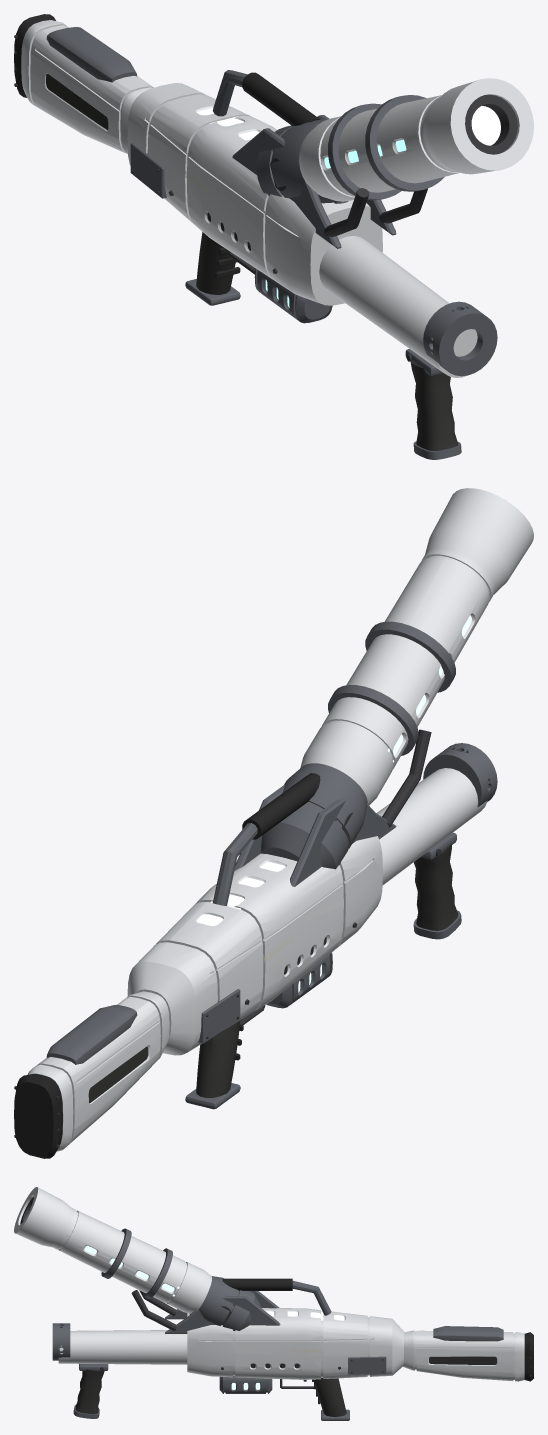
Rendered from plasmafall.glb.
3 renders of one model, top to bottom at view 1: azimuth 30°, elevation 25°; view 2: azimuth 150°, elevation 25°; view 3: azimuth 270°, elevation 25°, orthographic. The views are drawn at different scales.
Parts seen in each view (by area): view 1: Body; view 2: Body; view 3: Body.
Part boxes in pixels (<box>): Body: <box>14,14,533,459</box>; Body: <box>14,488,533,1158</box>; Body: <box>14,1187,533,1420</box>.
Bounding box in the file's own units: 0.0912 × 0.4294 × 0.8882.
